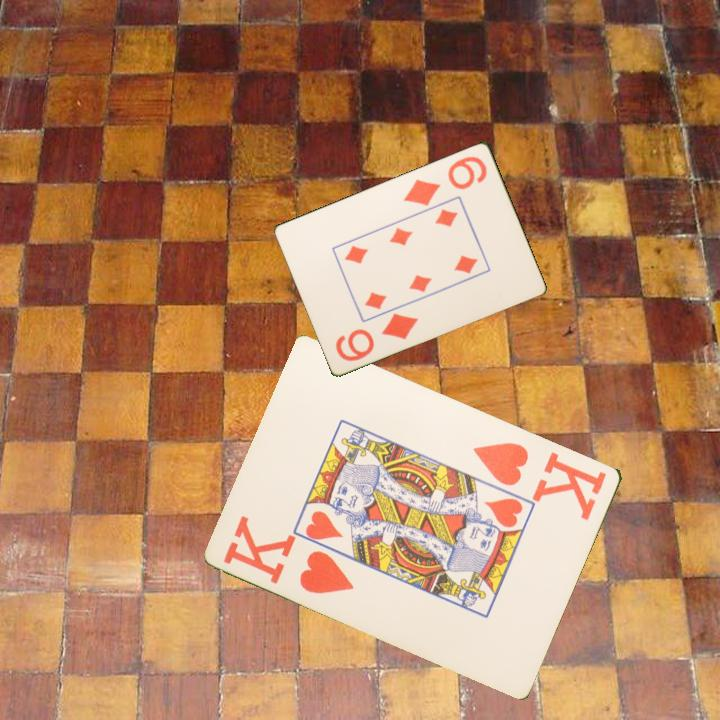6d: (400, 152, 490, 209), (332, 309, 421, 364)
Kh: (470, 438, 610, 523), (220, 512, 358, 597)
